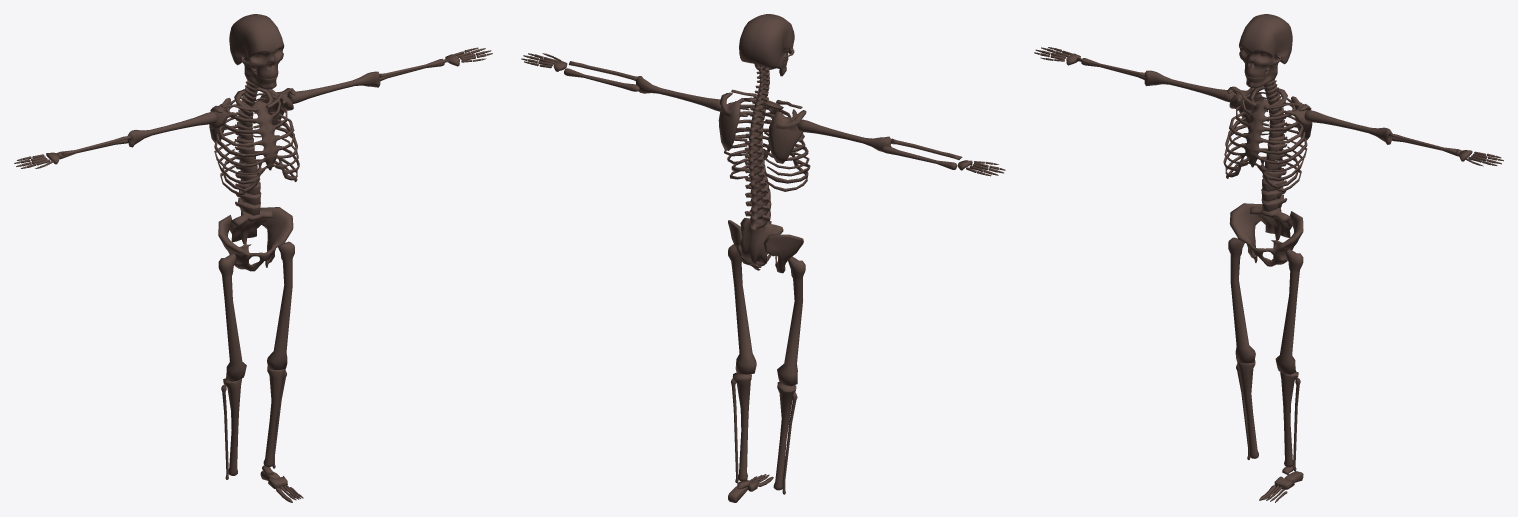
The model's file is Mesh_SkeletonPieces.FBX.
The picture shows the model from 3 angles, left to right: view 1: azimuth 30°, elevation 25°; view 2: azimuth 150°, elevation 25°; view 3: azimuth 330°, elevation 25°; orthographic projection. The views are drawn at different scales.
Parts seen in each view (by area): view 1: Skeleton_Ribs, Skeleton_Spine, Skeleton_Skull, Skeleton_Hip, Skeleton_LeftLowerLeg, Skeleton_LeftUpperLeg, Skeleton_RightUpperLeg, Skeleton_RightLowerLeg001, Skeleton_LeftUpperArm, Skeleton_RightUpperArm, Skeleton_RightClavice; view 2: Skeleton_Spine, Skeleton_Skull, Skeleton_Ribs, Skeleton_LeftLowerLeg, Skeleton_RightUpperLeg, Skeleton_LeftUpperLeg, Skeleton_RightLowerLeg001, Skeleton_Hip, Skeleton_RightClavice, Skeleton_LeftClavice, Skeleton_RightUpperArm, Skeleton_LeftUpperArm (+2 smaller); view 3: Skeleton_Ribs, Skeleton_Spine, Skeleton_Skull, Skeleton_LeftLowerLeg, Skeleton_Hip, Skeleton_RightUpperLeg, Skeleton_LeftUpperLeg, Skeleton_RightLowerLeg001, Skeleton_RightUpperArm, Skeleton_LeftUpperArm.
Part boxes in pixels (<box>): Skeleton_Ribs: <box>214,87,299,195</box>; Skeleton_Spine: <box>221,67,291,252</box>; Skeleton_Skull: <box>229,14,284,78</box>; Skeleton_Hip: <box>218,207,293,271</box>; Skeleton_LeftLowerLeg: <box>260,366,303,502</box>; Skeleton_LeftUpperLeg: <box>267,241,294,369</box>; Skeleton_RightUpperLeg: <box>218,254,246,381</box>; Skeleton_RightLowerLeg001: <box>221,378,241,479</box>; Skeleton_LeftUpperArm: <box>287,71,380,103</box>; Skeleton_RightUpperArm: <box>127,112,217,147</box>; Skeleton_RightClavice: <box>209,98,237,142</box>; Skeleton_Spine: <box>731,65,802,270</box>; Skeleton_Skull: <box>739,14,794,69</box>; Skeleton_Ribs: <box>724,97,810,191</box>; Skeleton_LeftLowerLeg: <box>728,372,773,502</box>; Skeleton_RightUpperLeg: <box>777,256,805,386</box>; Skeleton_LeftUpperLeg: <box>728,244,756,374</box>; Skeleton_RightLowerLeg001: <box>773,381,797,494</box>; Skeleton_Hip: <box>728,220,803,273</box>; Skeleton_RightClavice: <box>768,109,806,163</box>; Skeleton_LeftClavice: <box>718,92,746,150</box>; Skeleton_RightUpperArm: <box>797,119,891,151</box>; Skeleton_LeftUpperArm: <box>636,76,721,111</box>; Skeleton_Ribs: <box>1223,86,1307,191</box>; Skeleton_Spine: <box>1231,66,1300,247</box>; Skeleton_Skull: <box>1239,14,1292,77</box>; Skeleton_LeftLowerLeg: <box>1259,371,1303,502</box>; Skeleton_Hip: <box>1229,203,1303,266</box>; Skeleton_RightUpperLeg: <box>1228,237,1255,363</box>; Skeleton_LeftUpperLeg: <box>1275,249,1303,374</box>; Skeleton_RightLowerLeg001: <box>1236,360,1258,459</box>; Skeleton_RightUpperArm: <box>1144,70,1235,102</box>; Skeleton_LeftUpperArm: <box>1304,110,1392,144</box>.
Bounding box in the file's own units: 1.93 × 1.84 × 0.2668.
